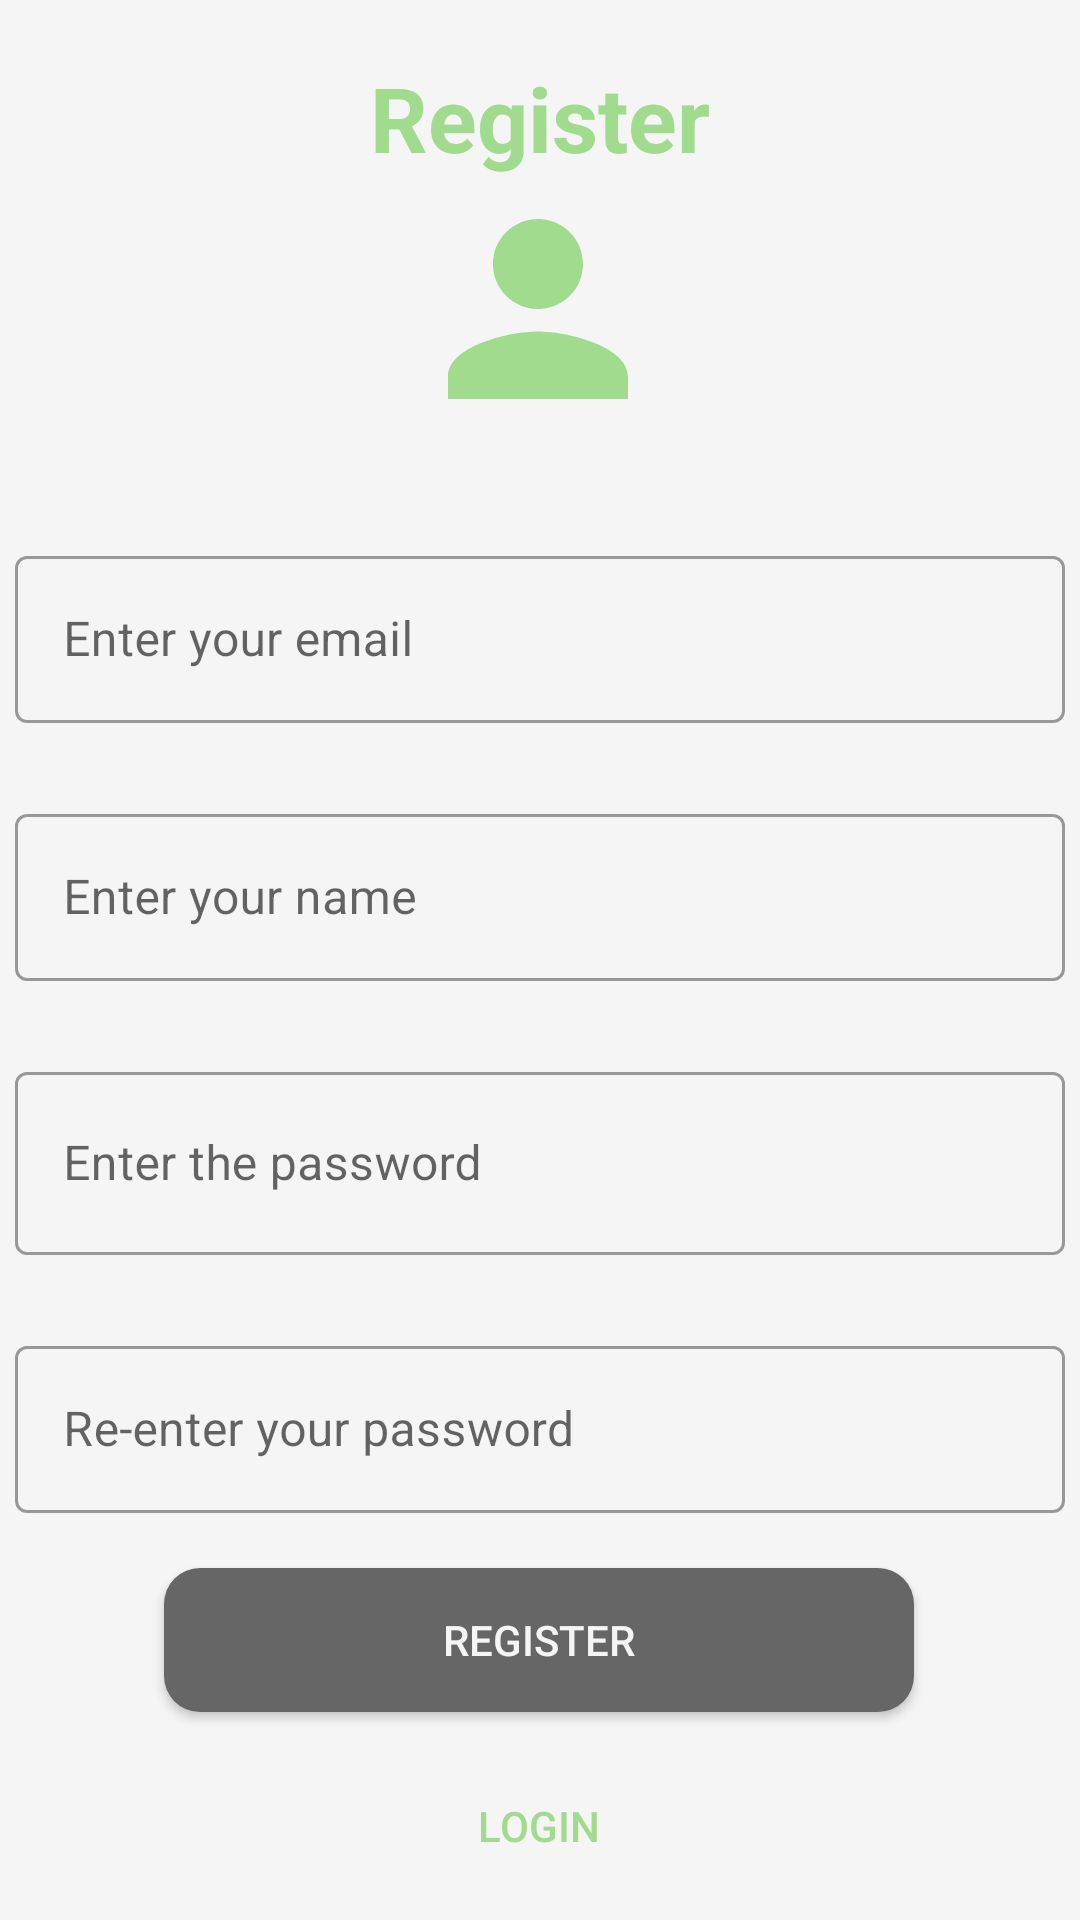

Screen size 1080w x 1920h. Icon name, then its box in pixels as {"x1": x1, "y1": y1, "x2": x2, "y2": y2}:
person: {"x1": 448, "y1": 219, "x2": 628, "y2": 399}
